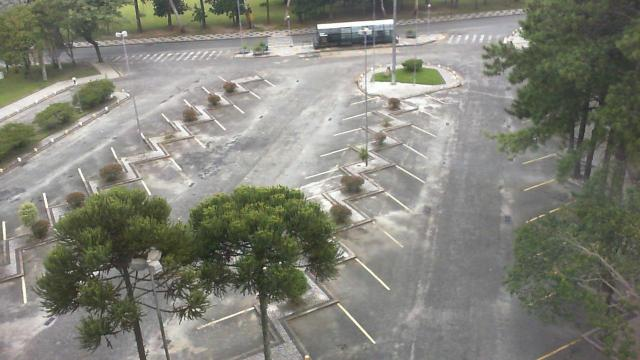empty: (188, 295, 282, 355), (289, 286, 363, 354), (315, 253, 391, 315), (333, 214, 399, 270), (351, 184, 412, 228), (358, 157, 417, 195), (43, 156, 89, 204), (76, 132, 124, 176), (291, 160, 353, 194), (374, 133, 430, 167), (132, 146, 176, 187), (108, 115, 152, 156), (317, 135, 371, 163), (319, 118, 375, 144), (384, 114, 434, 142), (162, 126, 200, 162), (182, 107, 222, 141), (138, 105, 178, 138), (342, 102, 392, 126), (395, 100, 443, 124), (405, 87, 451, 111), (207, 95, 246, 123), (162, 89, 198, 119), (200, 64, 236, 94), (222, 78, 260, 106), (345, 86, 393, 108), (184, 78, 218, 106), (241, 68, 273, 94)
